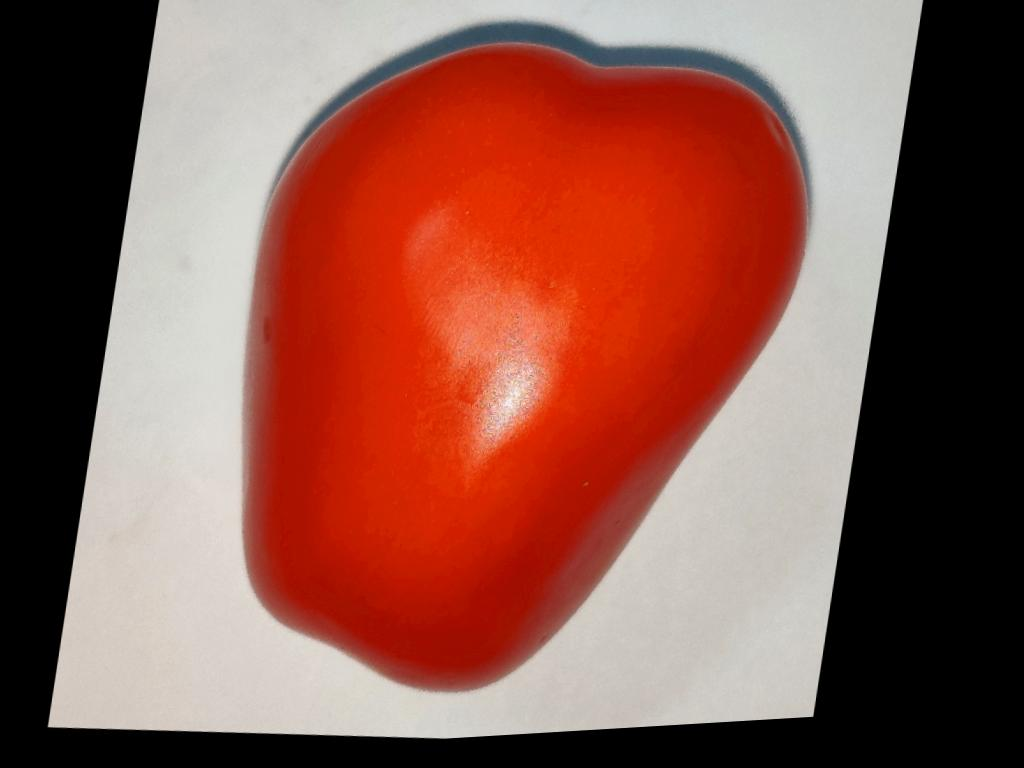tomato: (243, 45, 806, 687)
